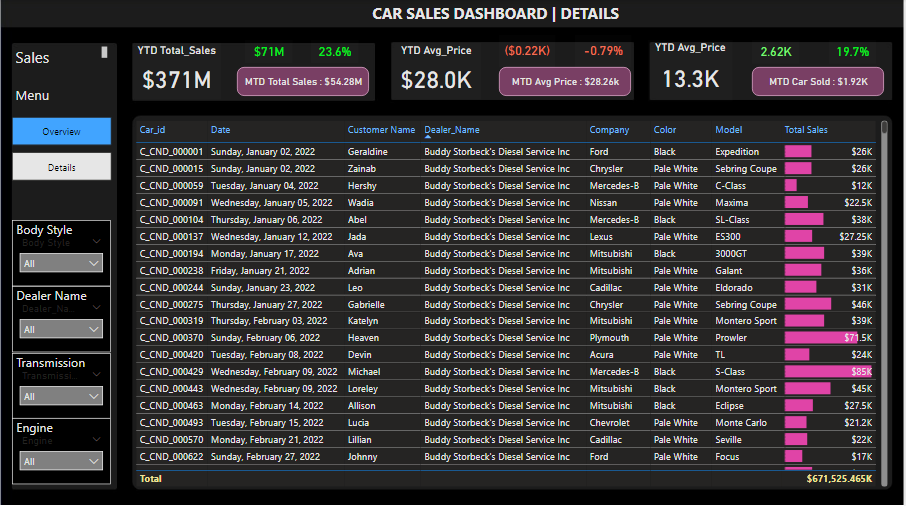

What the dashboard file says about the page in this screenshot:
{"tool":"powerbi","page":{"name":"Details","canvas":[1280,720],"ordinal":1},"visuals":[{"type":"card","title":"YTD Total_Sales","fields":{"Values":["car_data.YTD_Total_Sale"]},"box":[186.9,62.8,127,79.9],"z":0},{"type":"card","fields":{"Values":["car_data.Sales Difference"]},"box":[346.9,58.1,68.3,33.3],"z":1000},{"type":"card","fields":{"Values":["car_data.YOY Sales_Growth"]},"box":[440.2,58.1,68.3,33.3],"z":2000},{"type":"card","fields":{"Values":["car_data.MTD KPI"]},"box":[335.3,97,186.9,41.4],"z":3000},{"type":"card","title":"YTD Avg_Price","fields":{"Values":["car_data.YTD Avg_Price"]},"box":[553.7,62.8,128.4,79.9],"z":4000},{"type":"card","fields":{"Values":["car_data.Avg Price Diff"]},"box":[707.8,51.4,79.9,45.7],"z":5000},{"type":"card","fields":{"Values":["car_data.YOY Avg Price Growth"]},"box":[814.8,51.4,79.9,45.7],"z":6000},{"type":"card","fields":{"Values":["car_data.MTD Avg_Price KPI"]},"box":[707.8,97,186.9,41.4],"z":7000},{"type":"card","title":"YTD Avg_Price","fields":{"Values":["car_data.YTD Car Sold"]},"box":[919,58.5,119.9,87],"z":8000},{"type":"card","fields":{"Values":["car_data.Car Sold Diff"]},"box":[1066,58.5,68.5,34.2],"z":9000},{"type":"card","fields":{"Values":["car_data.YOY Car Sold Growth"]},"box":[1174.4,58.5,67.1,34.2],"z":10000},{"type":"card","fields":{"Values":["car_data.MTD Car Sold KPI"]},"box":[1066,97,186.9,41.4],"z":11000},{"type":"tableEx","fields":{"Values":["car_data.Car_id","car_data.Date","car_data.Customer Name","car_data.Dealer_Name","car_data.Company","car_data.Color","car_data.Model","car_data.Price ($)"]},"box":[187.1,167.1,1075.7,528.6],"z":12000},{"type":"textbox","box":[17.1,62.9,140,40],"z":13000},{"type":"textbox","box":[17.1,117.1,85.7,40],"z":14000},{"type":"pageNavigator","box":[17.1,167.1,141.4,91.4],"z":15000},{"type":"slicer","title":"Body Style","fields":{"Values":["car_data.Body Style"]},"box":[17.1,312.9,140,94.3],"z":16000},{"type":"slicer","title":"Dealer Name","fields":{"Values":["car_data.Dealer_Name"]},"box":[17.1,407.1,140,94.3],"z":17000},{"type":"slicer","title":"Transmission","fields":{"Values":["car_data.Transmission"]},"box":[17.1,501.4,140,92.9],"z":18000},{"type":"slicer","title":"Engine","fields":{"Values":["car_data.Engine"]},"box":[17.1,594.3,140,94.3],"z":19000},{"type":"textbox","box":[485.7,0,432.9,38.6],"z":20000}]}

Visuals, with their boxes on the page's 1280x720 design canvas (x1, y1, x2, y2). These are canvas units, not pixel positions in the 906x506 screenshot, which may show the page scaled, cropped or inside an application window:
"YTD Total_Sales" card: <region>187, 63, 314, 143</region>
card - car_data.Sales Difference: <region>347, 58, 415, 91</region>
card - car_data.YOY Sales_Growth: <region>440, 58, 508, 91</region>
card - car_data.MTD KPI: <region>335, 97, 522, 138</region>
"YTD Avg_Price" card: <region>554, 63, 682, 143</region>
card - car_data.Avg Price Diff: <region>708, 51, 788, 97</region>
card - car_data.YOY Avg Price Growth: <region>815, 51, 895, 97</region>
card - car_data.MTD Avg_Price KPI: <region>708, 97, 895, 138</region>
"YTD Avg_Price" card: <region>919, 58, 1039, 146</region>
card - car_data.Car Sold Diff: <region>1066, 58, 1134, 93</region>
card - car_data.YOY Car Sold Growth: <region>1174, 58, 1242, 93</region>
card - car_data.MTD Car Sold KPI: <region>1066, 97, 1253, 138</region>
tableEx - car_data.Car_id x car_data.Date: <region>187, 167, 1263, 696</region>
textbox: <region>17, 63, 157, 103</region>
textbox: <region>17, 117, 103, 157</region>
pageNavigator: <region>17, 167, 158, 258</region>
"Body Style" slicer: <region>17, 313, 157, 407</region>
"Dealer Name" slicer: <region>17, 407, 157, 501</region>
"Transmission" slicer: <region>17, 501, 157, 594</region>
"Engine" slicer: <region>17, 594, 157, 689</region>
textbox: <region>486, 0, 919, 39</region>
